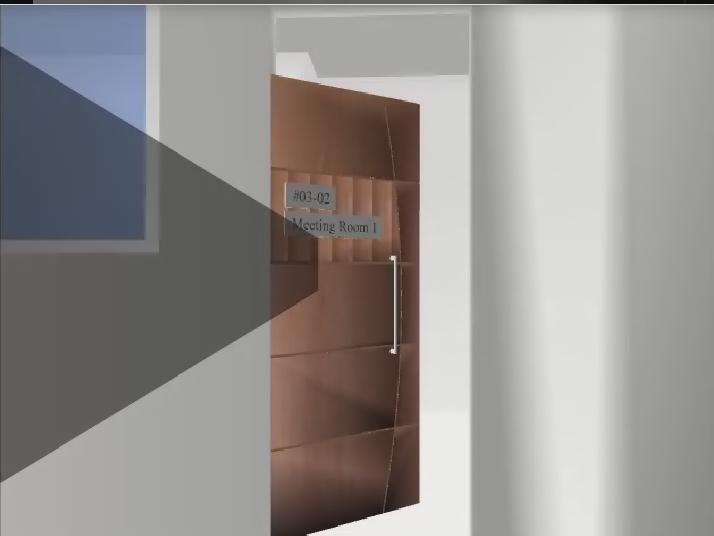door: (271, 74, 420, 536)
